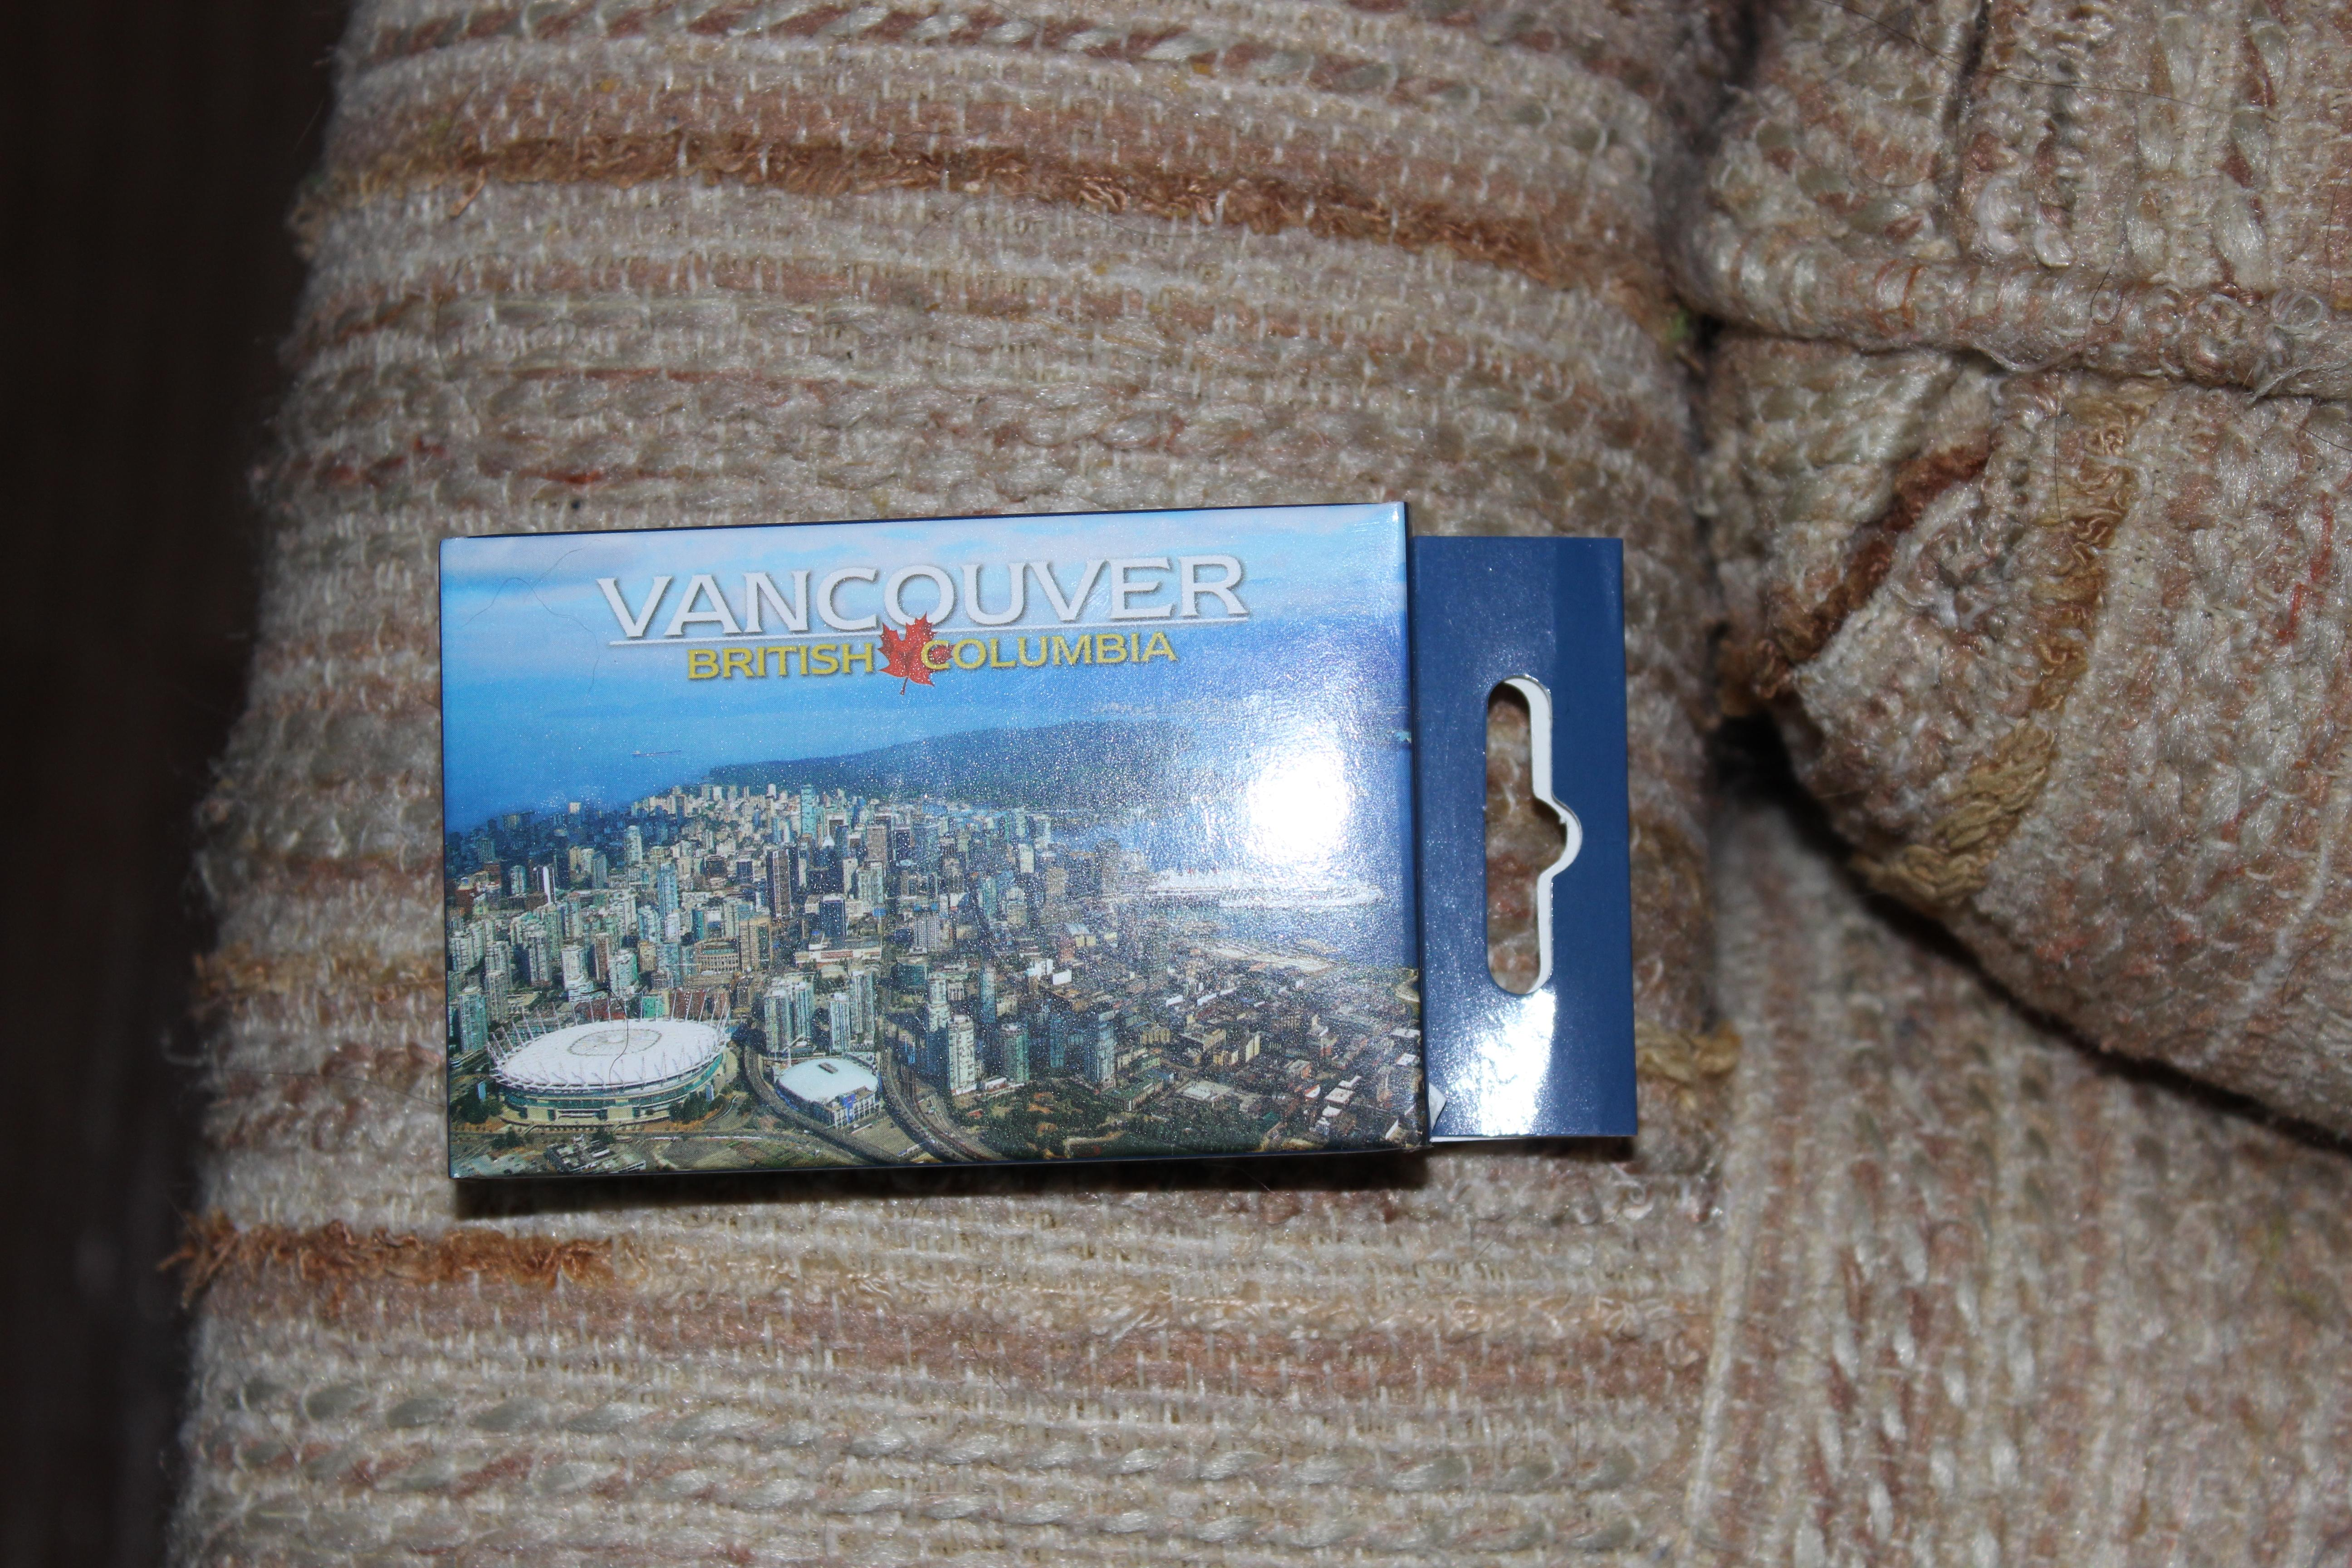vancouverCards: (406, 465, 1677, 1255)
